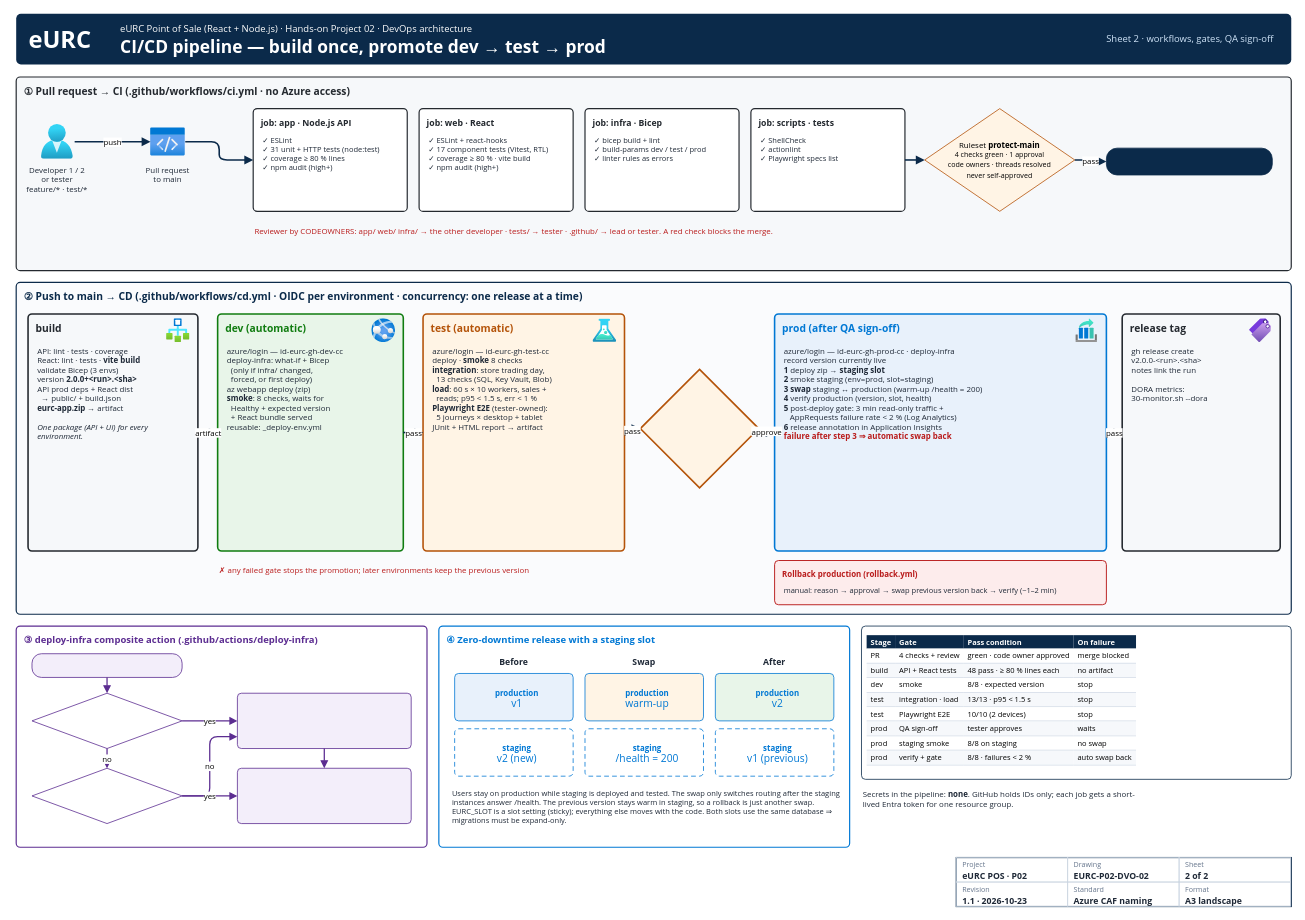
Image size: 1305x920. Some labels were removed from this diagram. Here are the shapes that lost their labels. From the top down, the centre of each, then its label:
pixel 1189 161: squash-merge to main
pixel 699 428: ⏸ QA sign-off env prod: tester approves (lead = backup) no self-approval
pixel 106 665: start (env, resource group)
pixel 106 720: forced or infra/ changed?
pixel 324 720: what-if → run summary az deployment group create -n eurc-main
pixel 106 795: last eurc-main Succeeded?
pixel 324 795: read outputs web app name, URLs, App Insights, workspace
